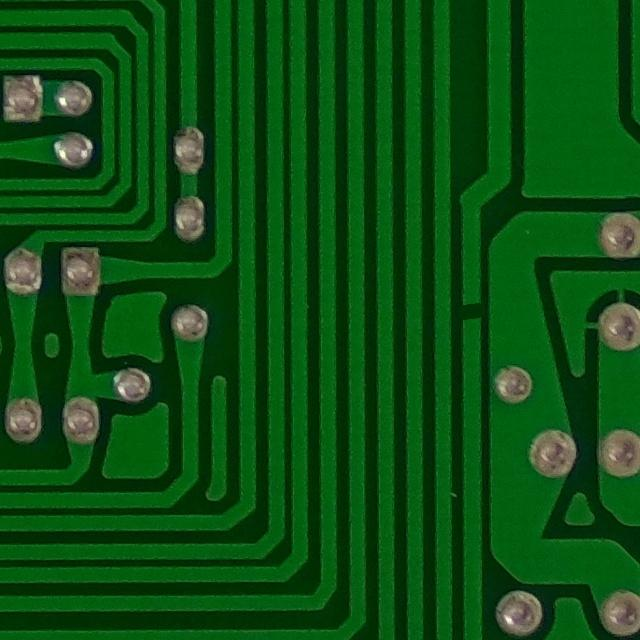open_circuit: (455, 293, 485, 327)
